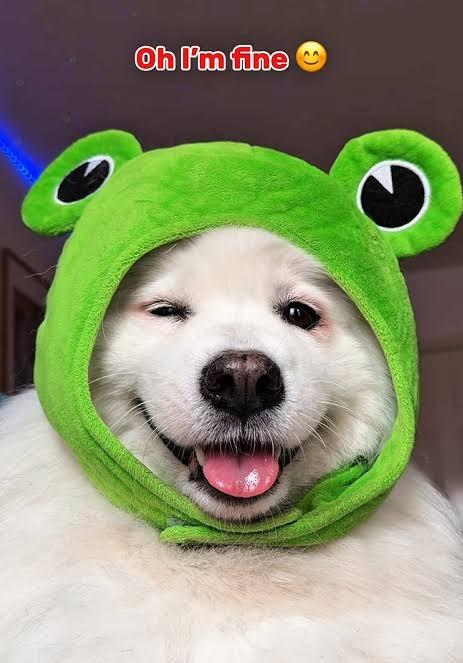adult_dog: (0, 226, 463, 658)
